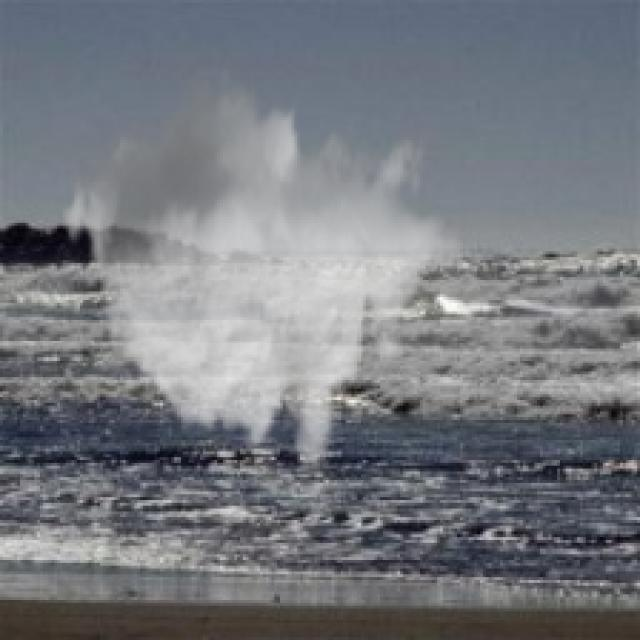smoke: (57, 60, 466, 480)
